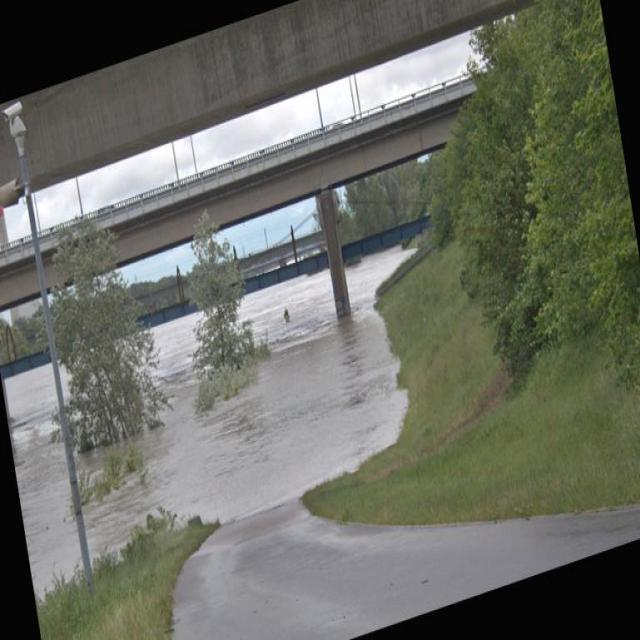flood: (0, 232, 409, 582)
